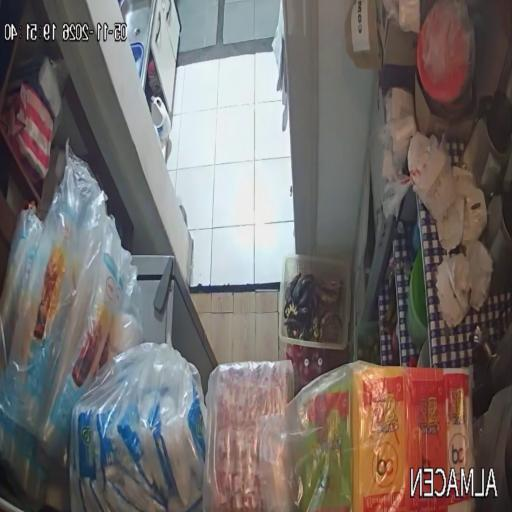Envase para platanos: (279, 255, 351, 350)
Productos culinarios: (0, 143, 143, 509), (259, 361, 474, 512), (69, 343, 206, 512), (204, 361, 294, 512)
Taper: (406, 251, 428, 347)
Taper2: (417, 340, 430, 367)
